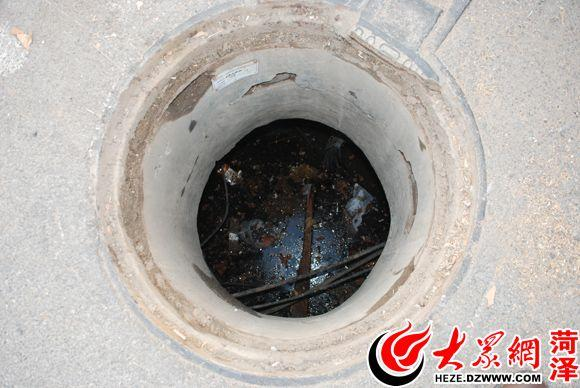lose: (89, 4, 494, 380)
